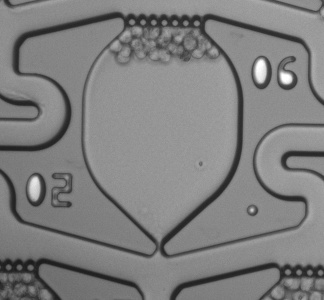AptNum: (243, 52, 305, 97)
Marker: (238, 197, 268, 224)
StNum: (18, 168, 80, 218)
Trap: (138, 245, 182, 287)
